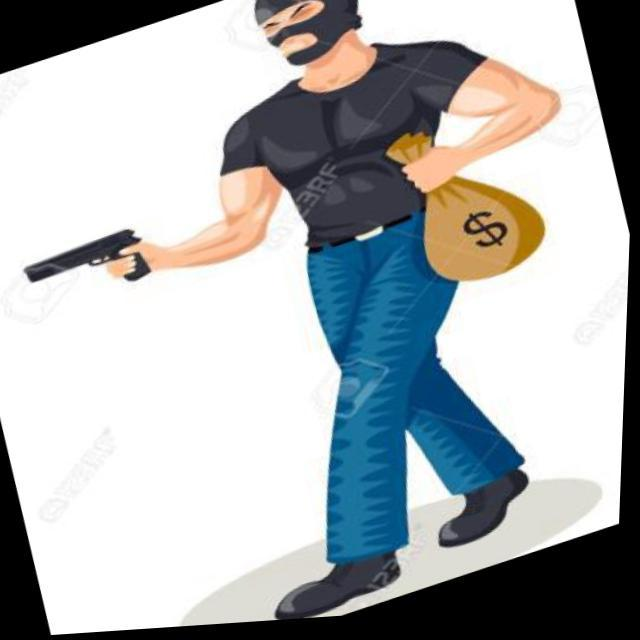weapon: (13, 206, 188, 328)
